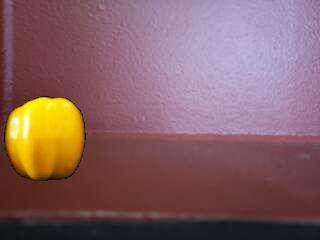Capsicum: (5, 95, 89, 183)
